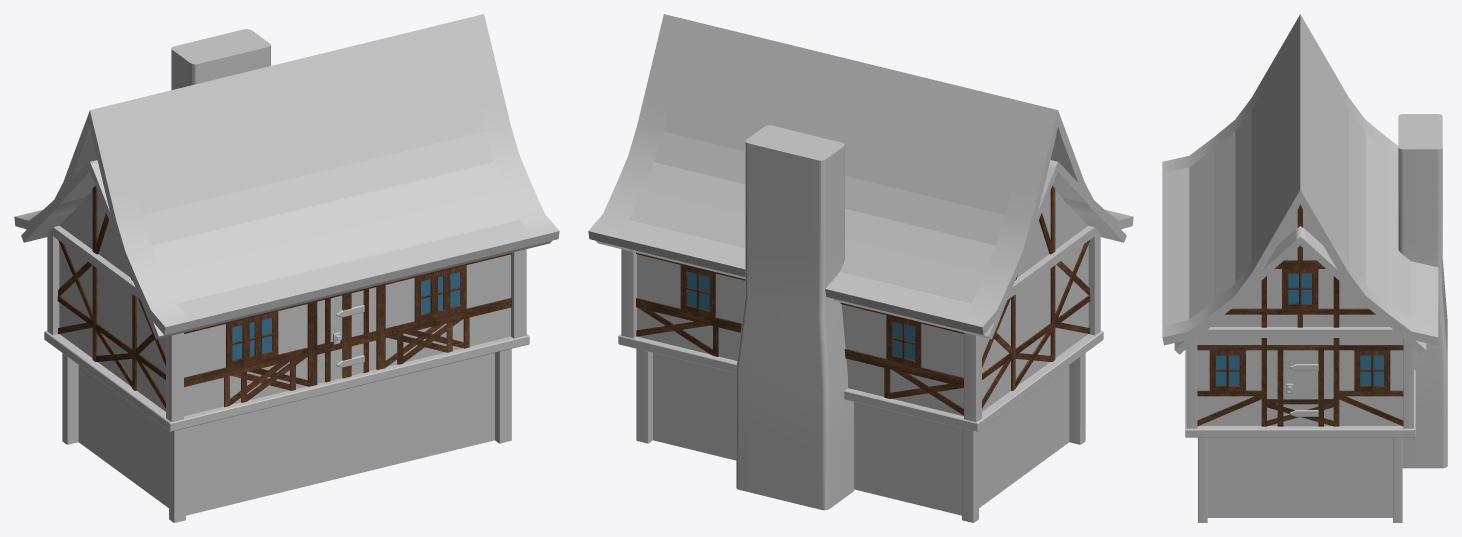
Rendered from Big House 2 Floors.fbx.
3 views of the same model, side by side, from view 1: azimuth 30°, elevation 25°; view 2: azimuth 150°, elevation 25°; view 3: azimuth 270°, elevation 25° (orthographic). The views are drawn at different scales.
Visible parts, largest first — view 1: Roof_BIG_Curved3, Stone_Bottom_Floor1, Wooden_Top_Floor1, Wood_between_2_Floors1, House_Long_Side_5_BIG_Long_Side_House_5, Big_House_4_Beams_2_Floors3, Standard_Roof_Big_polySurface6, House_Long_Side_3_Door_BIG_House_Long_Side_3_Door5, Big_House_4_Beams_2_Floors2, Chimney_Big2, House_Small_Side_2_pCube16, Door_Dark10 (+4 smaller); view 2: Roof_BIG_Curved3, Chimney_Big2, Stone_Bottom_Floor1, Wooden_Top_Floor1, Big_House_4_Beams_2_Floors3, Wood_between_2_Floors1, House_Long_Side_4_BIG_Long_Side_House3, Standard_Roof_Big_polySurface6, Big_House_4_Beams_2_Floors2, House_Small_Side_2_pCube16, WindowFinal47, WindowFinal46; view 3: Roof_BIG_Curved3, Stone_Bottom_Floor1, Chimney_Big2, Wooden_Top_Floor1, House_Small_Side_1_pCube16, Big_House_4_Beams_2_Floors3, Wood_between_2_Floors1, Door_Light10, Standard_Roof_Big_polySurface6, House_FlatRoof_Deco_Planks5, Big_House_4_Beams_2_Floors2, WindowFinal53 (+4 smaller).
Boxes of the visible parts, <box> form: Roof_BIG_Curved3: <box>14,14,559,335</box>; Stone_Bottom_Floor1: <box>78,353,494,515</box>; Wooden_Top_Floor1: <box>59,243,510,416</box>; Wood_between_2_Floors1: <box>44,330,529,431</box>; House_Long_Side_5_BIG_Long_Side_House_5: <box>184,252,511,406</box>; Big_House_4_Beams_2_Floors3: <box>47,225,526,421</box>; Standard_Roof_Big_polySurface6: <box>21,160,551,339</box>; House_Long_Side_3_Door_BIG_House_Long_Side_3_Door5: <box>184,283,511,402</box>; Big_House_4_Beams_2_Floors2: <box>62,349,511,522</box>; Chimney_Big2: <box>171,29,270,90</box>; House_Small_Side_2_pCube16: <box>57,240,165,408</box>; Door_Dark10: <box>330,290,364,380</box>; Roof_BIG_Curved3: <box>588,14,1133,335</box>; Chimney_Big2: <box>736,125,854,510</box>; Stone_Bottom_Floor1: <box>653,353,1069,515</box>; Wooden_Top_Floor1: <box>637,244,1088,416</box>; Big_House_4_Beams_2_Floors3: <box>621,225,1100,421</box>; Wood_between_2_Floors1: <box>618,330,1103,431</box>; House_Long_Side_4_BIG_Long_Side_House3: <box>636,252,963,415</box>; Standard_Roof_Big_polySurface6: <box>596,160,1126,339</box>; Big_House_4_Beams_2_Floors2: <box>636,349,1085,522</box>; House_Small_Side_2_pCube16: <box>982,240,1090,408</box>; WindowFinal47: <box>680,265,715,317</box>; WindowFinal46: <box>886,315,921,367</box>; Roof_BIG_Curved3: <box>1162,14,1438,345</box>; Stone_Bottom_Floor1: <box>1207,437,1392,517</box>; Chimney_Big2: <box>1398,114,1447,468</box>; Wooden_Top_Floor1: <box>1197,338,1403,425</box>; House_Small_Side_1_pCube16: <box>1197,338,1403,426</box>; Big_House_4_Beams_2_Floors3: <box>1186,327,1413,428</box>; Wood_between_2_Floors1: <box>1185,349,1415,437</box>; Door_Light10: <box>1283,350,1318,426</box>; Standard_Roof_Big_polySurface6: <box>1174,226,1426,354</box>; House_FlatRoof_Deco_Planks5: <box>1225,246,1375,327</box>; Big_House_4_Beams_2_Floors2: <box>1198,437,1402,522</box>; WindowFinal53: <box>1354,350,1390,391</box>.
Size of the model in its own units: 11.51 by 10.57 by 7.9.
